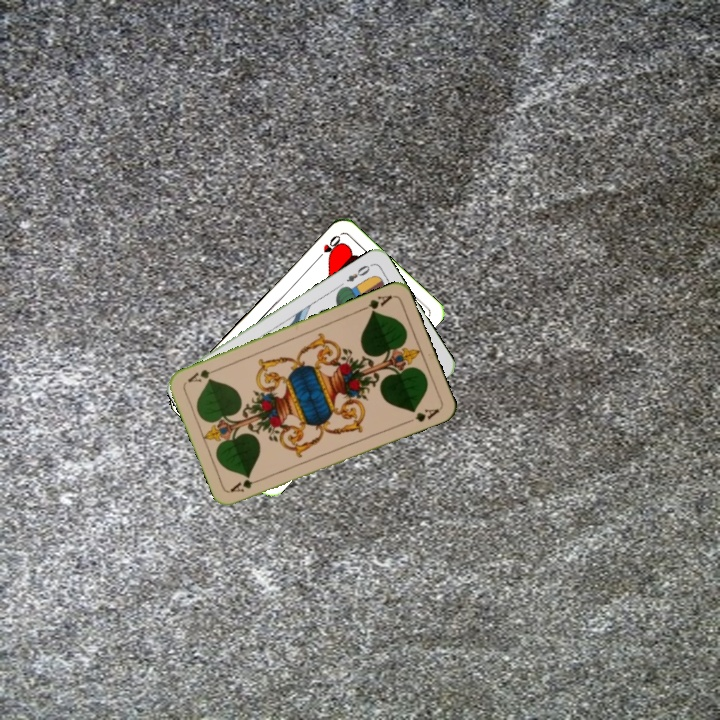EO: (342, 260, 375, 284)
GA: (356, 291, 395, 316), (226, 474, 266, 495)
HO: (311, 231, 343, 263)
